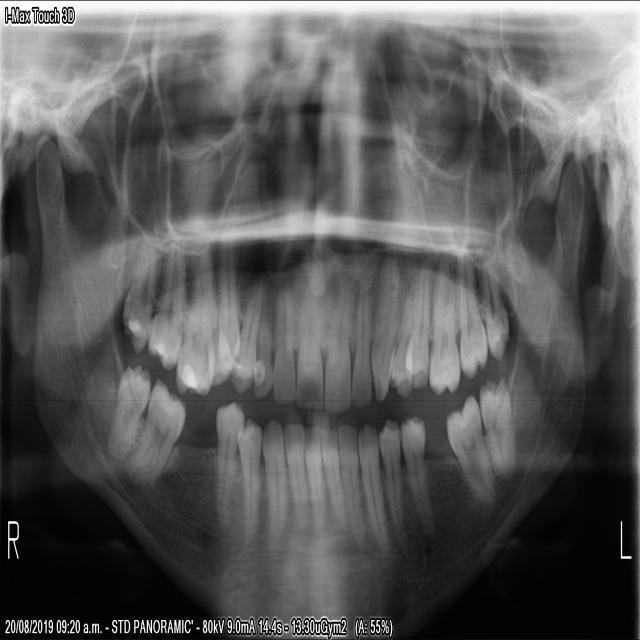LCD: (357, 417, 390, 561)
LCU: (370, 255, 398, 404)
LID: (336, 420, 364, 548), (318, 423, 348, 530)
LIU: (323, 280, 353, 416), (352, 269, 373, 410)
LMD: (443, 391, 494, 502), (477, 373, 517, 484)
LMU: (427, 245, 463, 401), (390, 260, 429, 400), (456, 243, 490, 384), (478, 246, 510, 365)
LPMD: (399, 410, 437, 548), (377, 411, 408, 559)
RCD: (259, 414, 286, 544)
RCU: (251, 279, 273, 400)
RID: (281, 419, 309, 543), (301, 419, 327, 536)
RIU: (292, 275, 324, 411), (269, 271, 293, 408)
RMD: (123, 375, 185, 487), (100, 361, 150, 464)
RMU: (172, 241, 217, 400), (143, 236, 186, 375), (118, 220, 157, 357)
RPMD: (213, 398, 244, 529), (234, 415, 260, 548)
RPMU: (226, 269, 263, 395)
